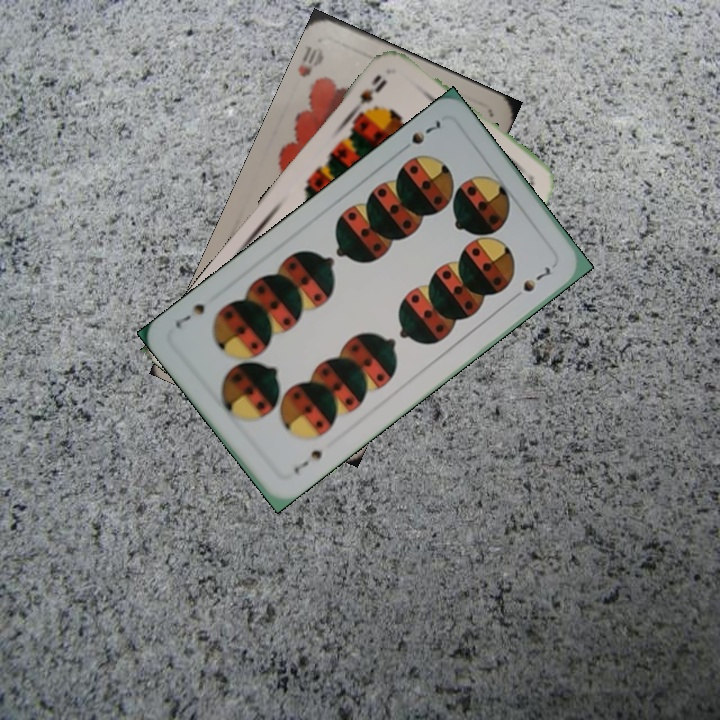H10: (293, 42, 327, 80)
S7: (395, 115, 444, 156), (290, 445, 326, 477)
S9: (347, 70, 390, 120)
